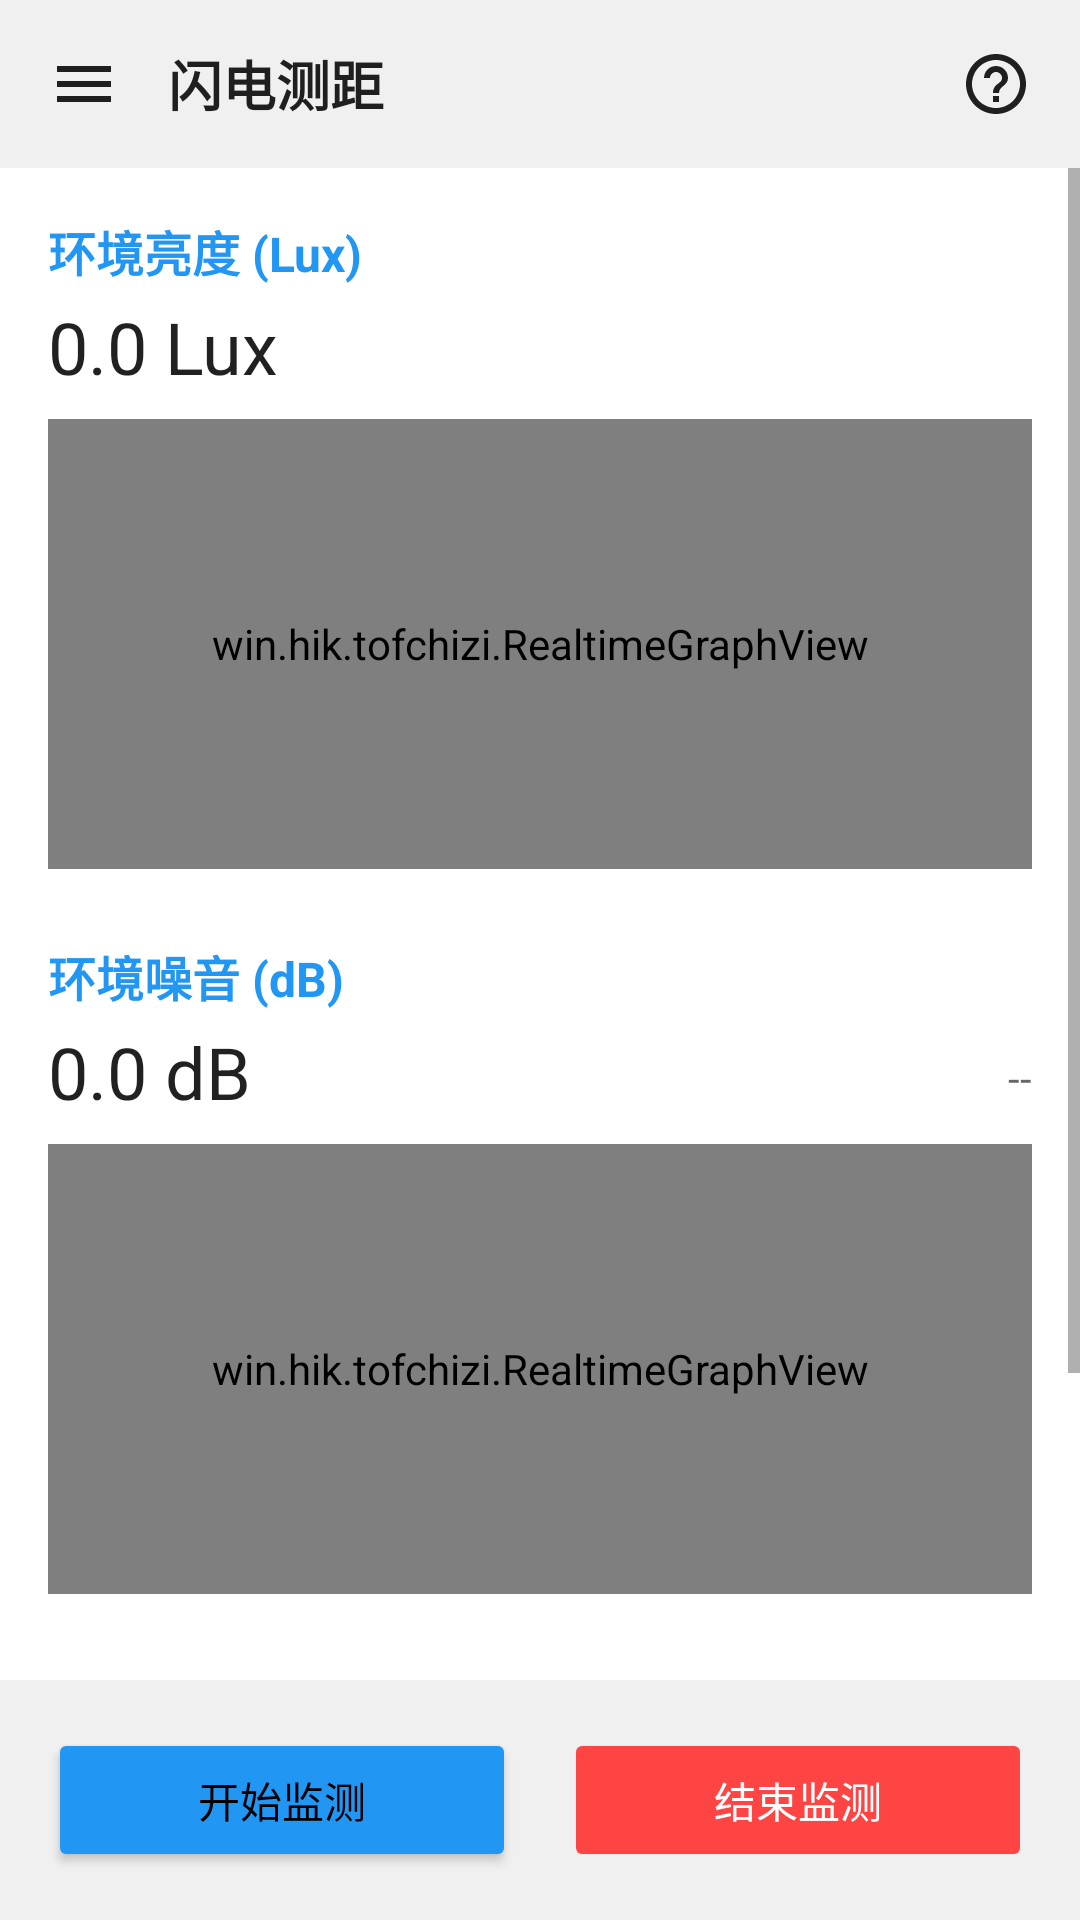

Screen size 1080 x 1920. Icon name, then its center in pixels as (x=x, y=y):
help: (x=996, y=84)
